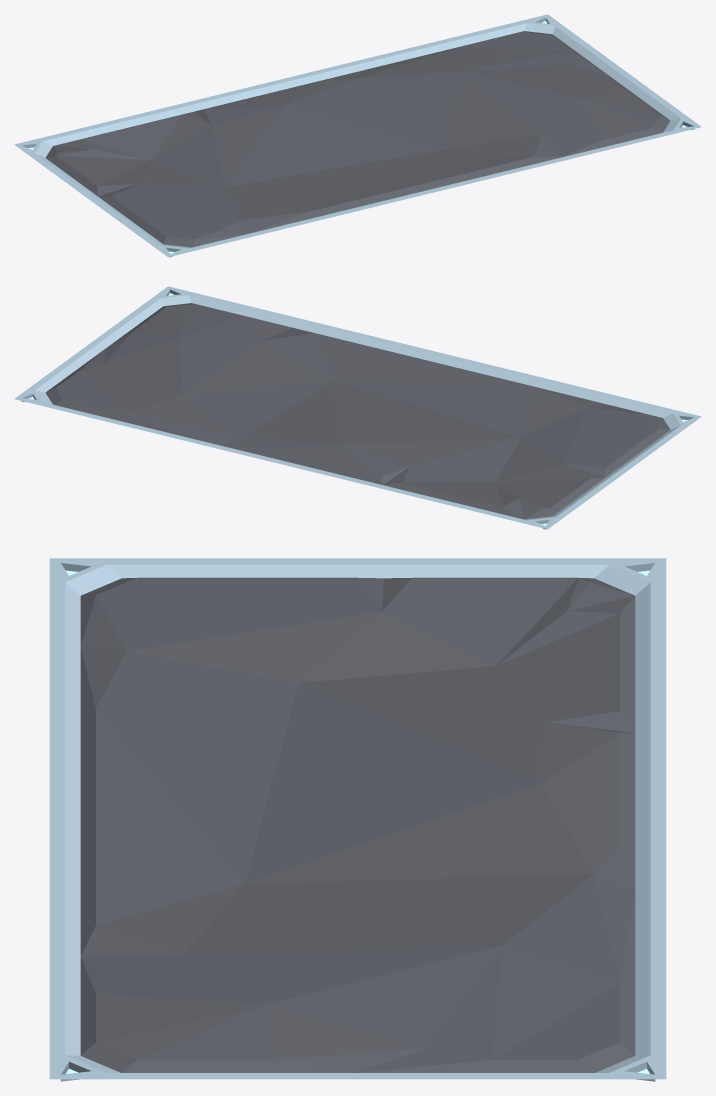
The model's file is Floor_Small_Long.fbx.
3 renders of one model, top to bottom at view 1: azimuth 30°, elevation 25°; view 2: azimuth 150°, elevation 25°; view 3: azimuth 270°, elevation 25°, orthographic. The views are drawn at different scales.
Parts seen in each view (by area): view 1: Floor_Small_Long; view 2: Floor_Small_Long; view 3: Floor_Small_Long.
Boxes of the visible parts, box(x1,y1,x2,y2) form: Floor_Small_Long: box(14, 14, 701, 257); Floor_Small_Long: box(14, 286, 701, 529); Floor_Small_Long: box(49, 558, 666, 1081).
Bounding box in the file's own units: 8 × 0.1781 × 4.
